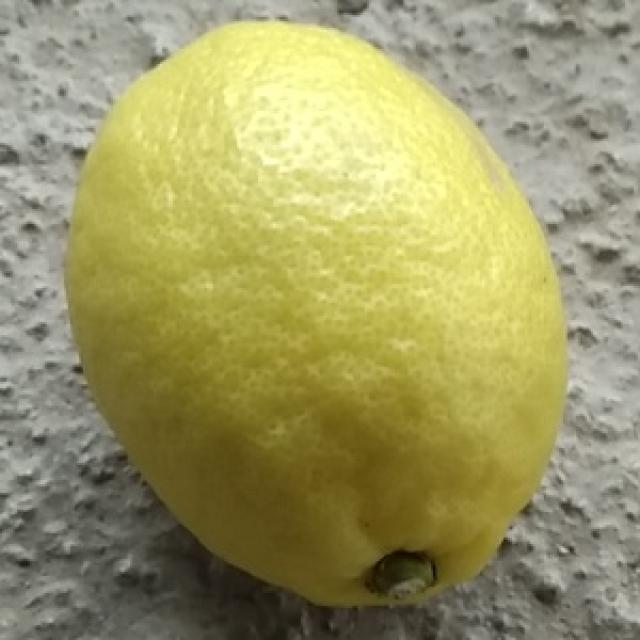Ripe: (62, 13, 572, 615)
